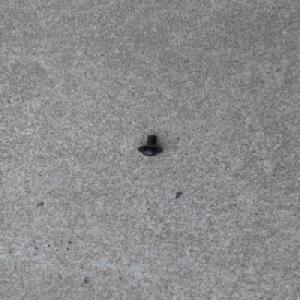BoltWasher: (137, 134, 163, 156)
